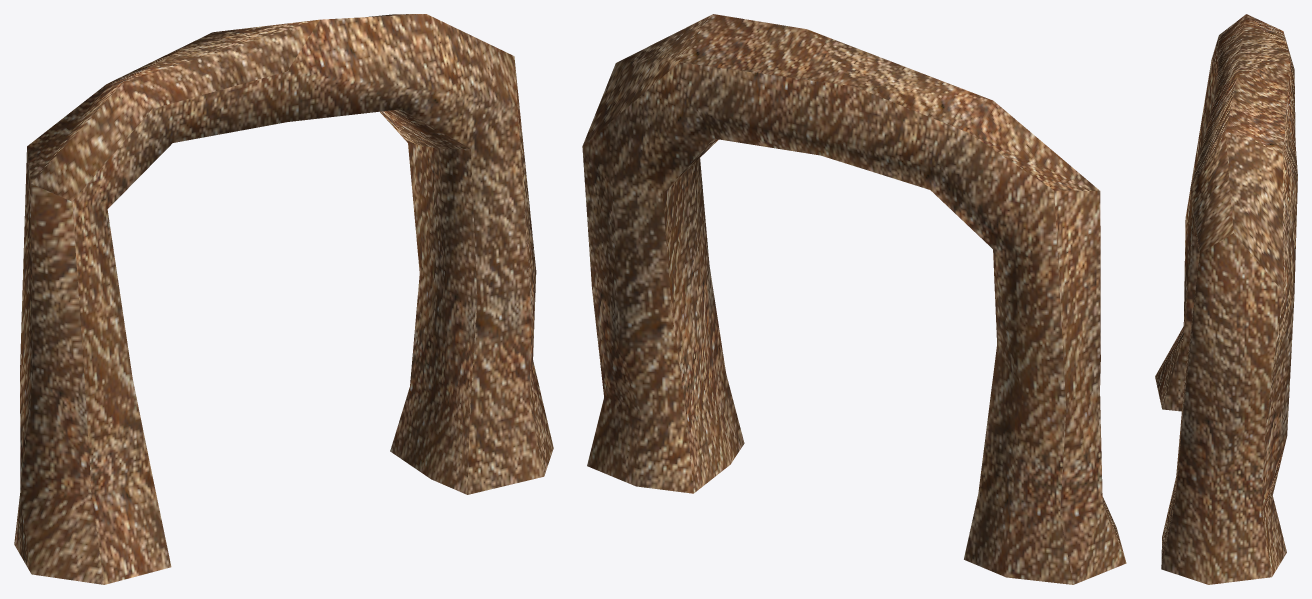
File: StoneArch.fbx
3 renders of one model, left to right at view 1: azimuth 30°, elevation 25°; view 2: azimuth 150°, elevation 25°; view 3: azimuth 270°, elevation 25°, orthographic. The views are drawn at different scales.
Parts seen in each view (by area): view 1: Rock_11; view 2: Rock_11; view 3: Rock_11.
Part boxes in pixels (x1,y1,x2,y2): Rock_11: (14,14,553,584); Rock_11: (582,14,1126,584); Rock_11: (1155,14,1297,584).
Size of the model in its own units: 425 by 366 by 115.
